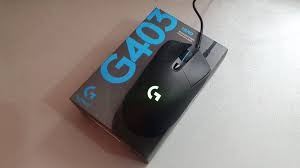mouse: (125, 40, 211, 138)
